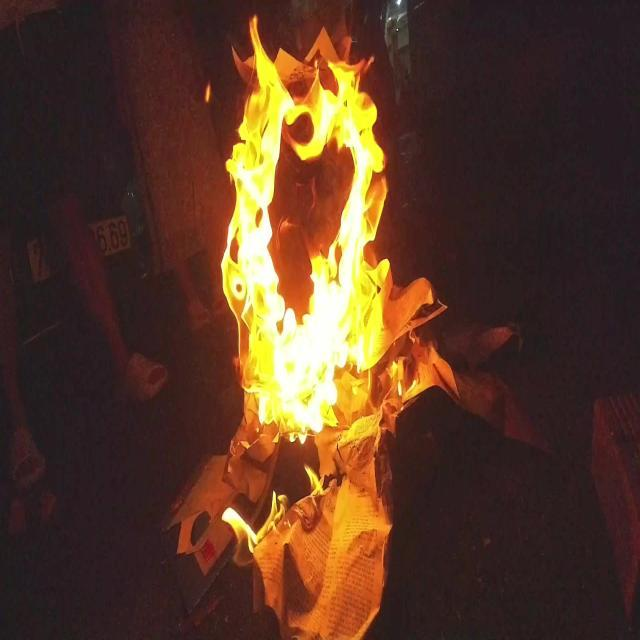Fire: (221, 12, 416, 568)
